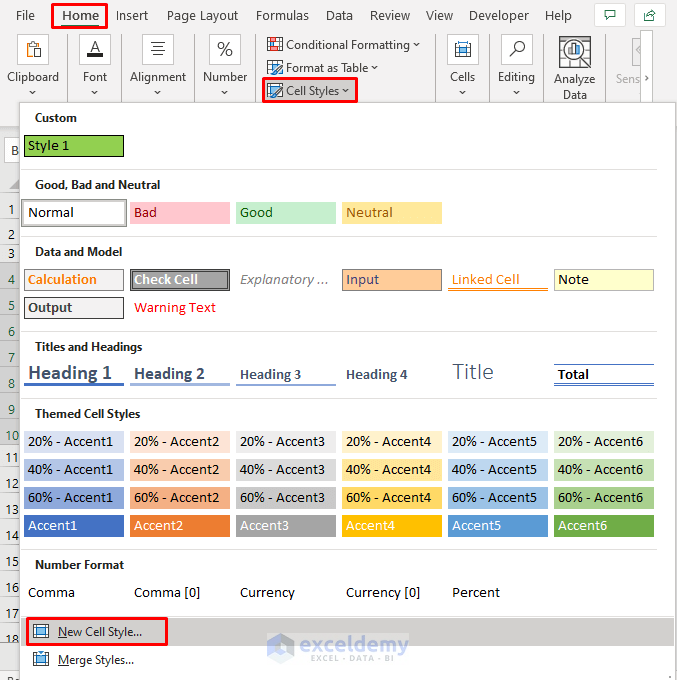20% - Accent3: (231, 429, 332, 452)
Good, Bad and Neutral: (31, 174, 164, 194)
